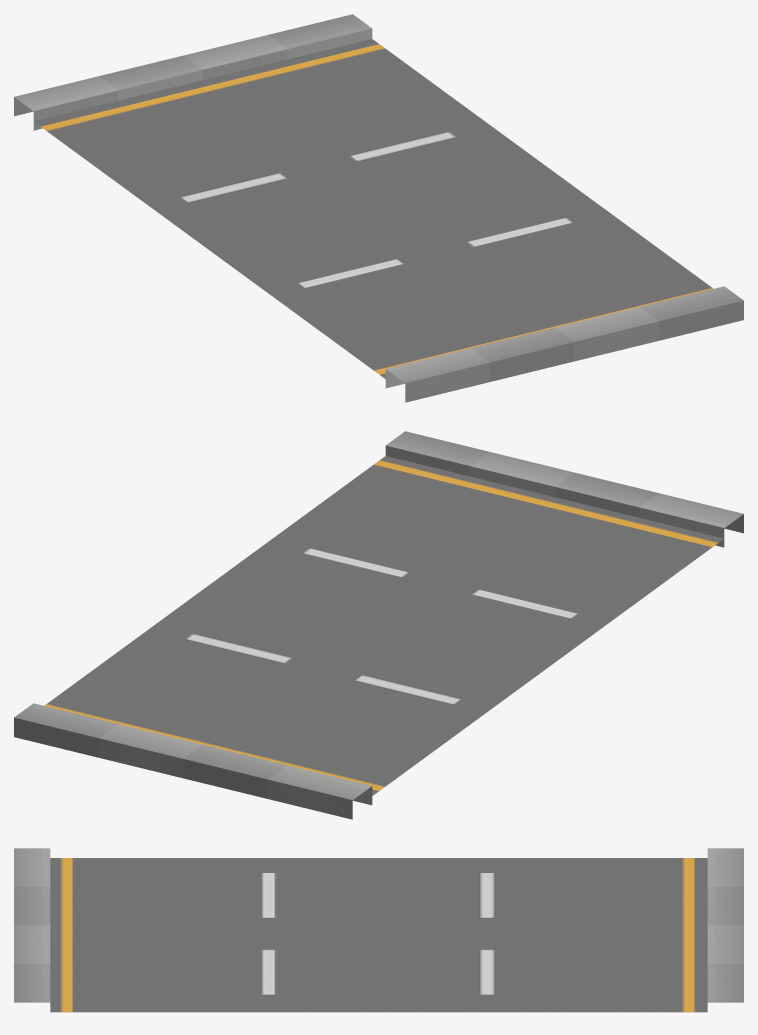
The model's file is Road_A.fbx.
The picture shows the model from 3 angles, top to bottom: view 1: azimuth 30°, elevation 25°; view 2: azimuth 150°, elevation 25°; view 3: azimuth 270°, elevation 25°; orthographic projection. The views are drawn at different scales.
Visible parts, largest first — view 1: Road_A; view 2: Road_A; view 3: Road_A.
Boxes of the visible parts, left/top/right/bottom form: Road_A: left=14, top=14, right=743, bottom=402; Road_A: left=14, top=431, right=743, bottom=819; Road_A: left=14, top=848, right=743, bottom=1012.
Size of the model in its own units: 1000 by 55.12 by 2000.
